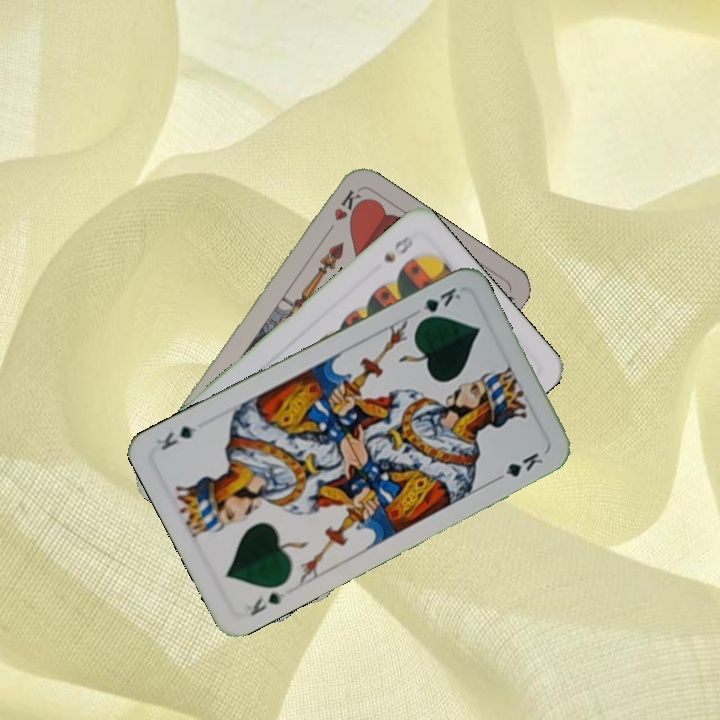GK: (414, 283, 464, 325), (246, 588, 288, 619)
HK: (320, 185, 363, 239)
S8: (379, 231, 416, 265)
